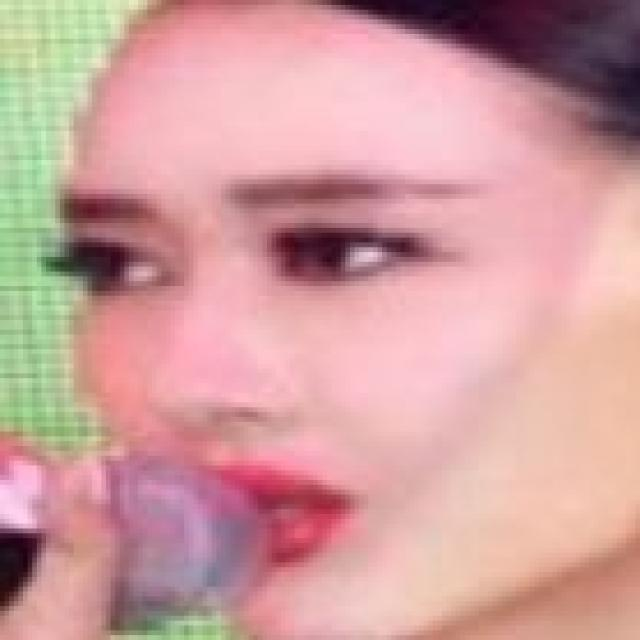no_mask: (67, 21, 614, 626)
